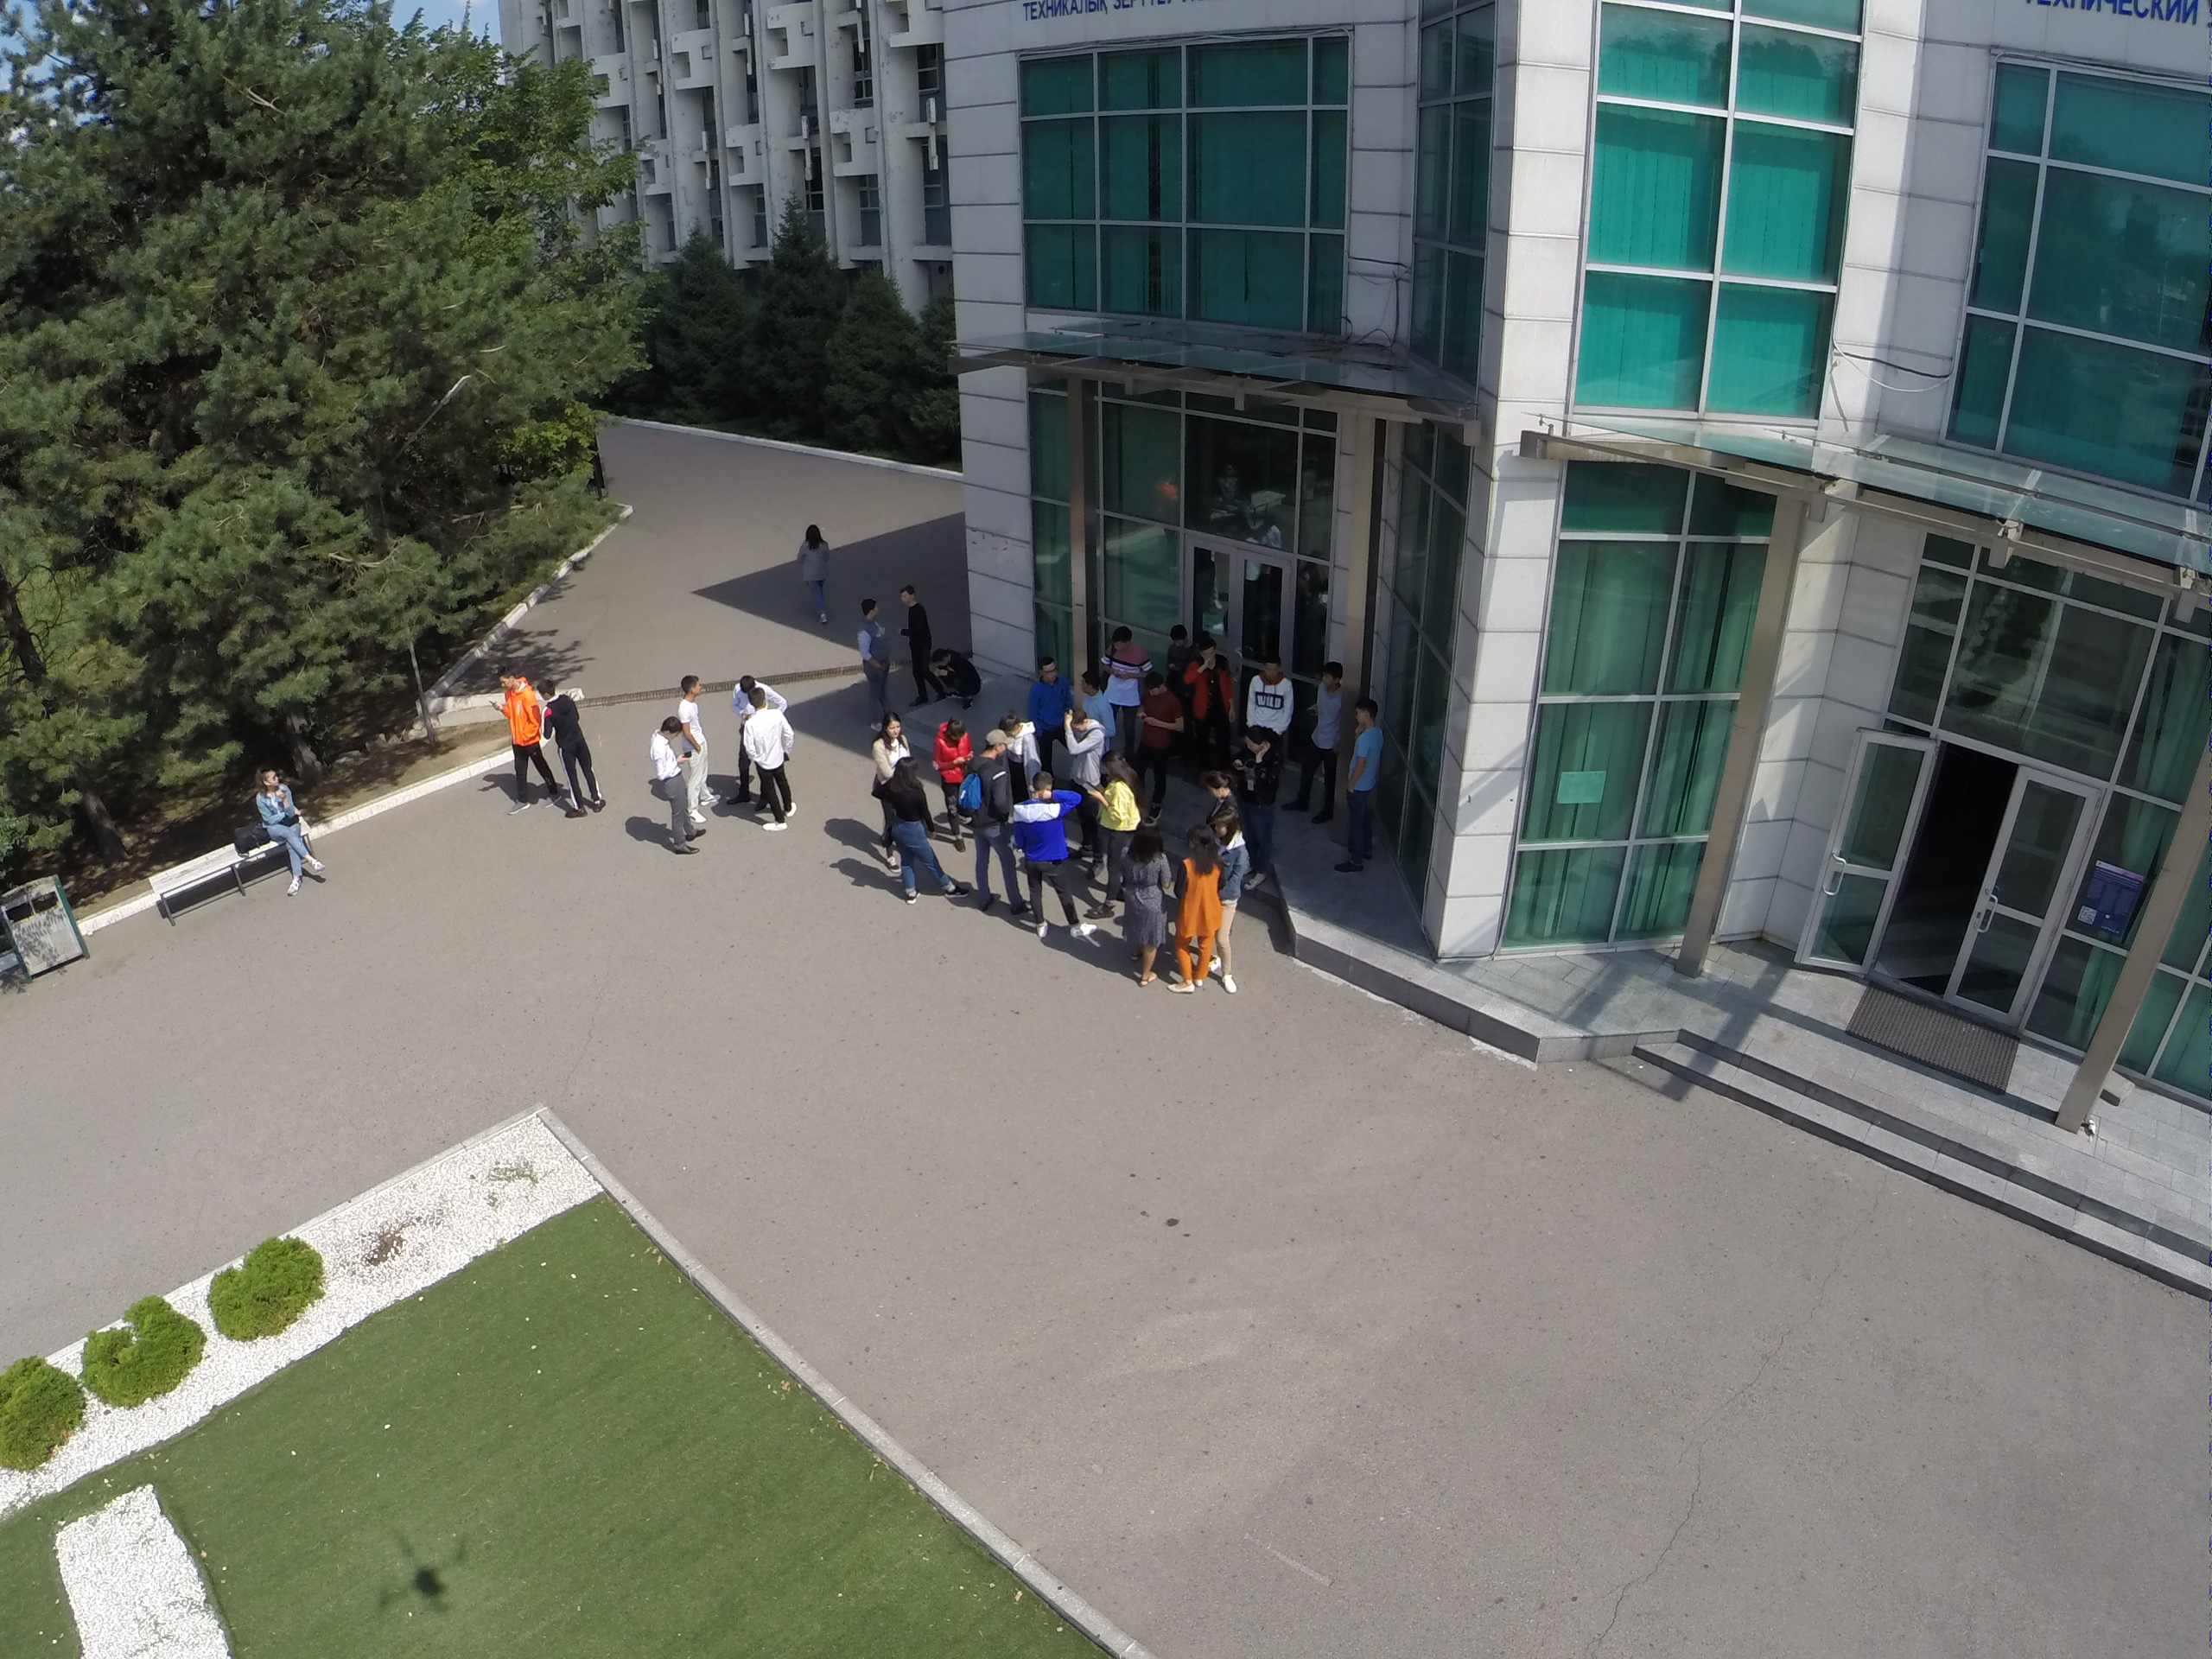person: (884, 752, 961, 910), (966, 727, 1026, 924), (1027, 762, 1085, 957), (256, 762, 325, 900), (539, 679, 608, 817), (497, 663, 556, 818), (639, 711, 701, 863), (739, 687, 802, 834), (1090, 752, 1139, 922), (1134, 665, 1181, 836), (1061, 706, 1109, 868), (1236, 716, 1279, 897), (1212, 809, 1250, 1005), (1344, 695, 1381, 881), (1179, 834, 1219, 999), (676, 678, 717, 829), (1307, 663, 1346, 816), (895, 578, 940, 705), (794, 521, 838, 629), (1103, 618, 1147, 707), (931, 642, 986, 713), (1027, 658, 1070, 744), (858, 594, 888, 708), (937, 716, 964, 829), (1250, 655, 1293, 724), (1205, 769, 1244, 822), (872, 712, 905, 766)
